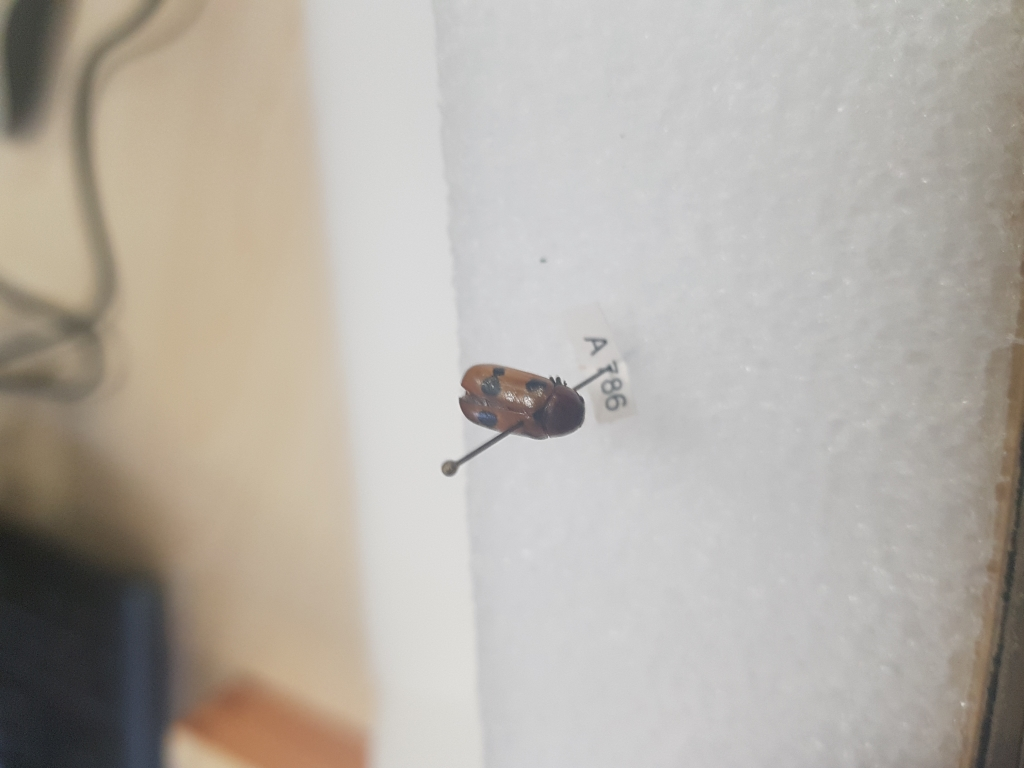Clytra_novempunctata: (458, 360, 591, 443)
